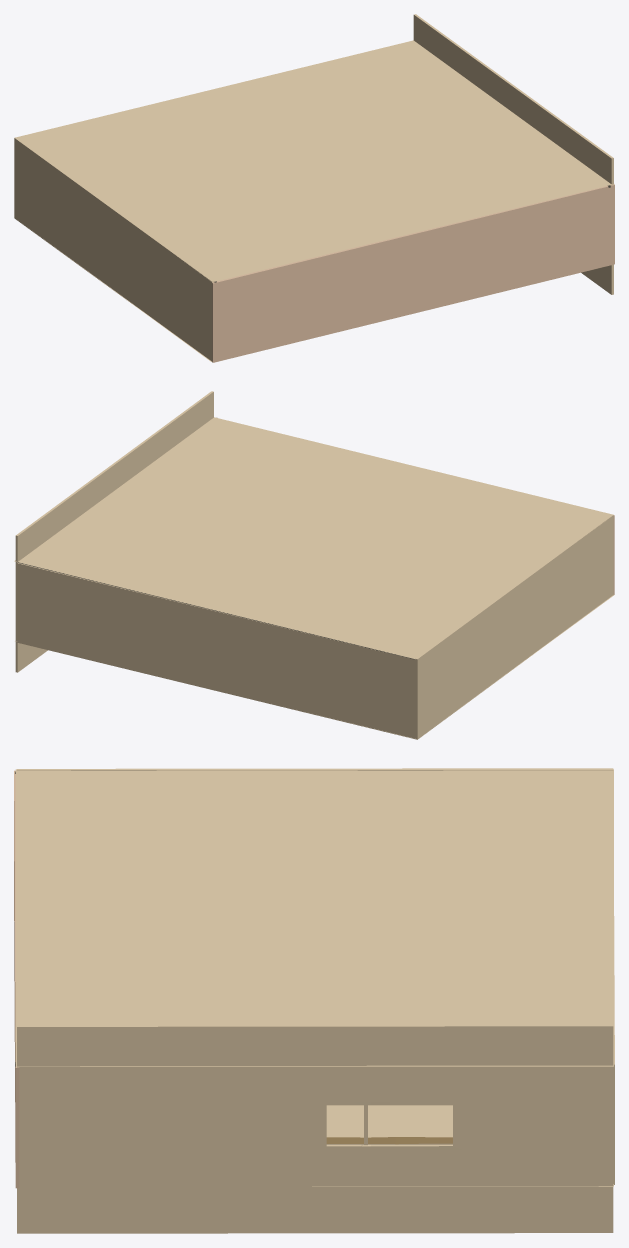
File: Cat_room_v003 .fbx
3 views of the same model, one above another, from view 1: azimuth 30°, elevation 25°; view 2: azimuth 150°, elevation 25°; view 3: azimuth 270°, elevation 25° (orthographic). The views are drawn at different scales.
Parts seen in each view (by area): view 1: Ceiling, Back_Wall, Left_wall, Right_wall; view 2: Ceiling, Front_wall, Left_wall, Right_wall, Cube.002; view 3: Ceiling, Right_wall, Ground, Left_wall, Back_Wall, Window_aisle.
Part boxes in pixels (x1=…): Ceiling: x1=17, y1=40, x2=614, y2=282; Back_Wall: x1=212, y1=184, x2=614, y2=362; Left_wall: x1=14, y1=137, x2=213, y2=361; Right_wall: x1=413, y1=14, x2=613, y2=294; Ceiling: x1=14, y1=417, x2=613, y2=659; Front_wall: x1=17, y1=563, x2=415, y2=738; Left_wall: x1=415, y1=514, x2=613, y2=739; Right_wall: x1=15, y1=391, x2=213, y2=672; Cube.002: x1=18, y1=562, x2=414, y2=659; Ceiling: x1=15, y1=769, x2=613, y2=1066; Right_wall: x1=17, y1=1024, x2=613, y2=1233; Ground: x1=312, y1=1105, x2=613, y2=1186; Left_wall: x1=17, y1=768, x2=613, y2=770; Back_Wall: x1=14, y1=770, x2=19, y2=1188; Window_aisle: x1=326, y1=1137, x2=452, y2=1144.
Bounding box in the file's own units: 4913 × 1589 × 4187.
